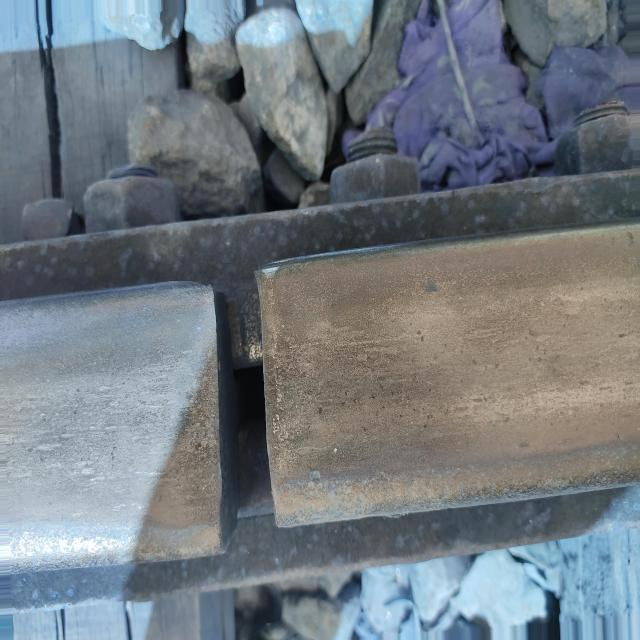crack: (148, 246, 346, 561)
